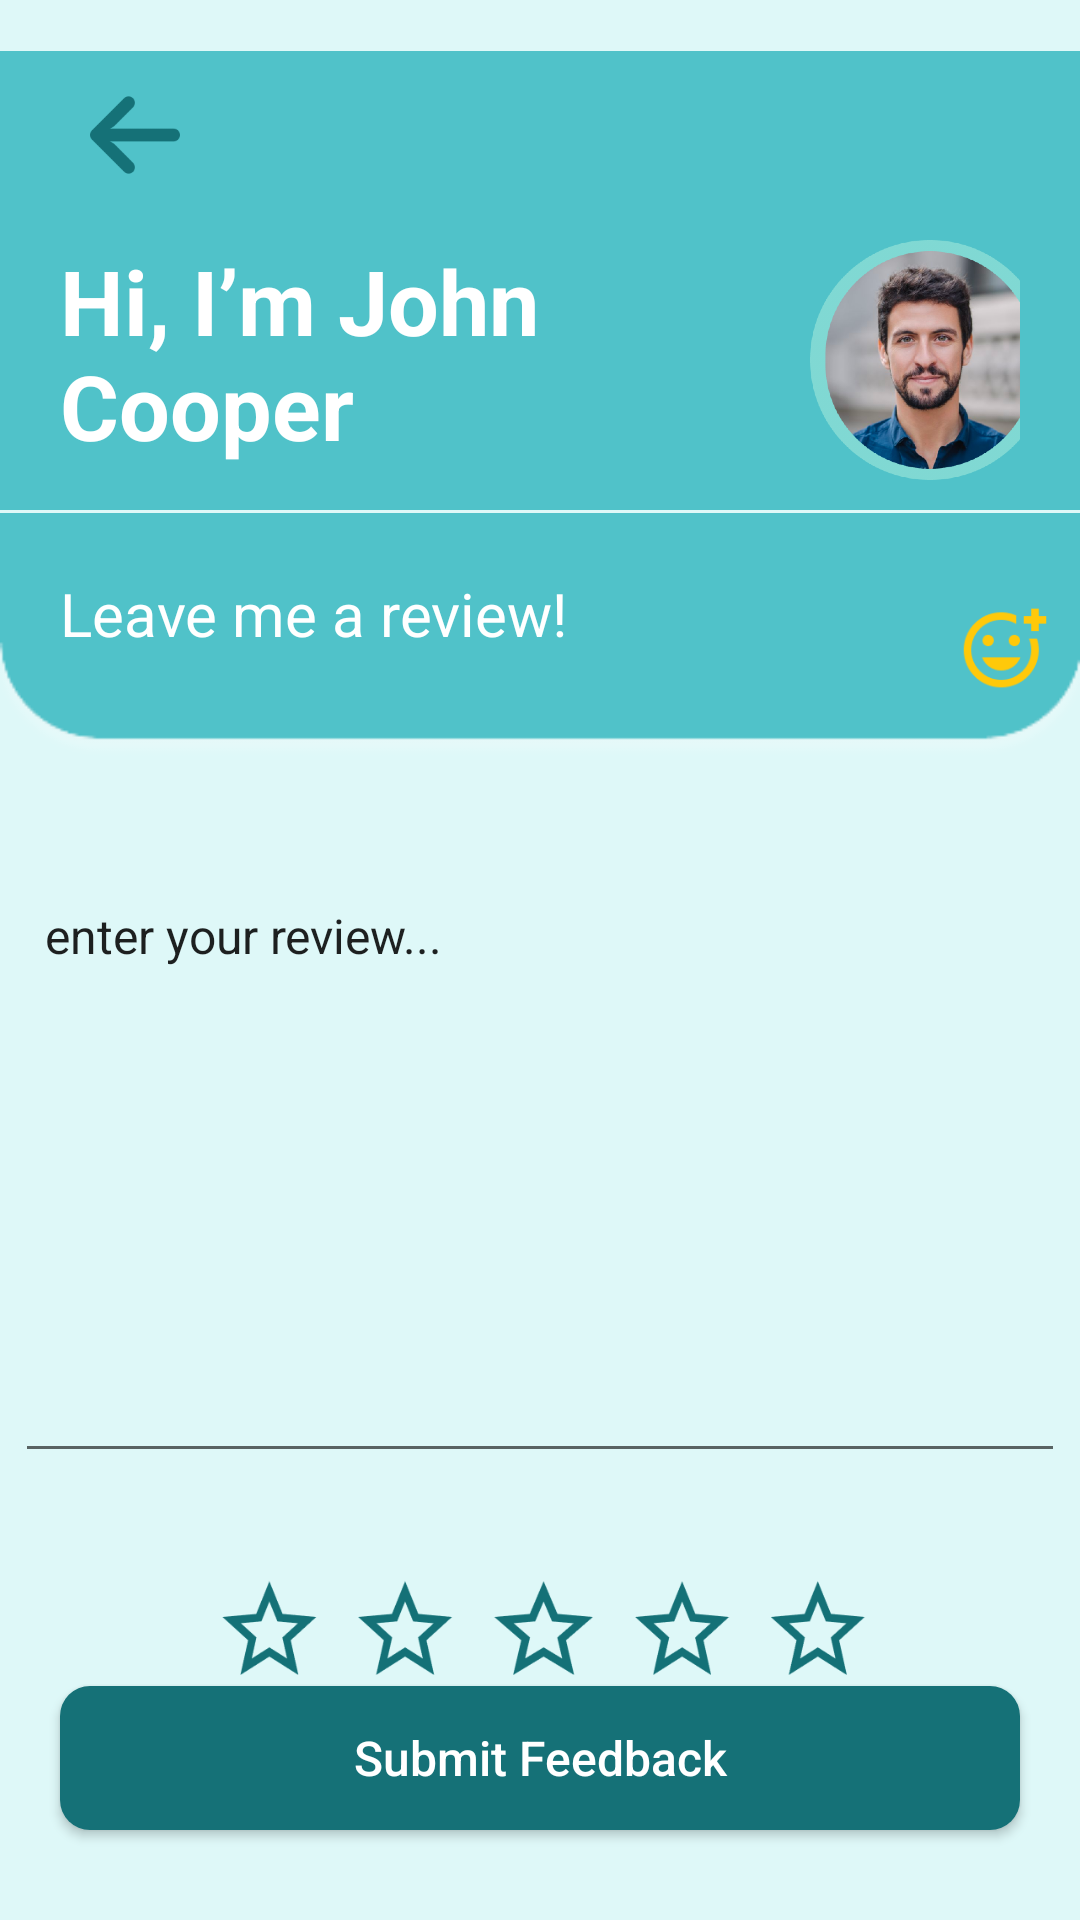

Icons on this 1080px x 1920px Android screen, each with the point to tap as [x,y]:
add reaction: [1005,648]
arrow: [135,135]
